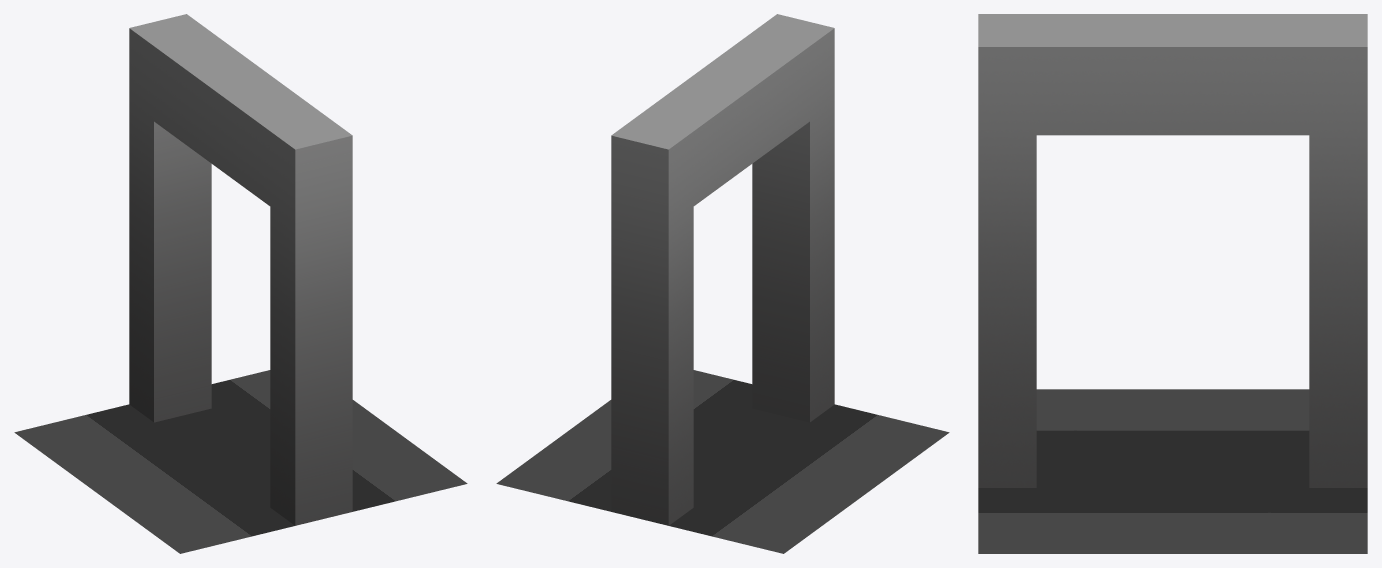
The model's file is SM_MuurKozijn.fbx.
3 renders of one model, left to right at view 1: azimuth 30°, elevation 25°; view 2: azimuth 150°, elevation 25°; view 3: azimuth 270°, elevation 25°, orthographic. The views are drawn at different scales.
Parts seen in each view (by area): view 1: SM_muurKozijn; view 2: SM_muurKozijn; view 3: SM_muurKozijn.
Part boxes in pixels (x1,y1,x2,y2): SM_muurKozijn: (14,14,467,553); SM_muurKozijn: (496,14,949,553); SM_muurKozijn: (978,14,1367,553).
Bounding box in the file's own units: 200 × 250 × 200.
